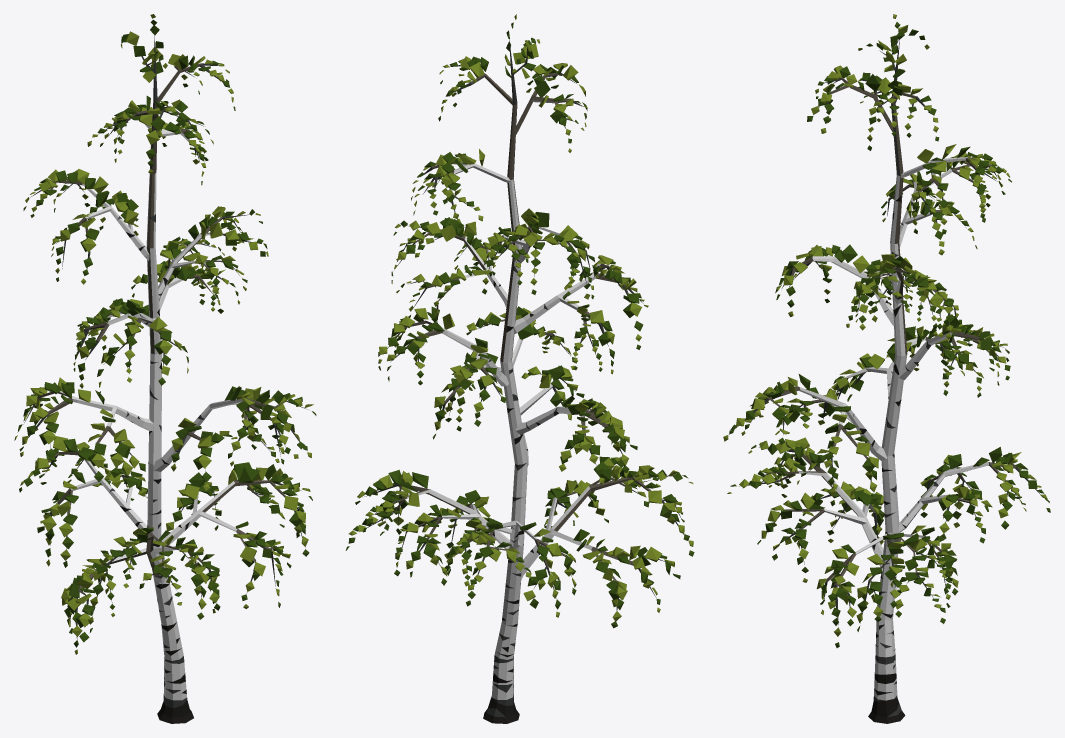
File: birch.obj
The picture shows the model from 3 angles, left to right: view 1: azimuth 30°, elevation 25°; view 2: azimuth 150°, elevation 25°; view 3: azimuth 270°, elevation 25°; orthographic projection. The views are drawn at different scales.
Parts seen in each view (by area): view 1: Cylinder; view 2: Cylinder; view 3: Cylinder.
Boxes of the visible parts, bbox=[...] form: Cylinder: bbox=[14, 14, 316, 723]; Cylinder: bbox=[345, 14, 694, 723]; Cylinder: bbox=[723, 14, 1050, 723].
Size of the model in its own units: 12.2 by 29.08 by 12.45.
